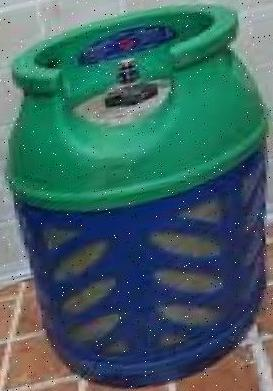cylinder: (0, 1, 273, 391)
